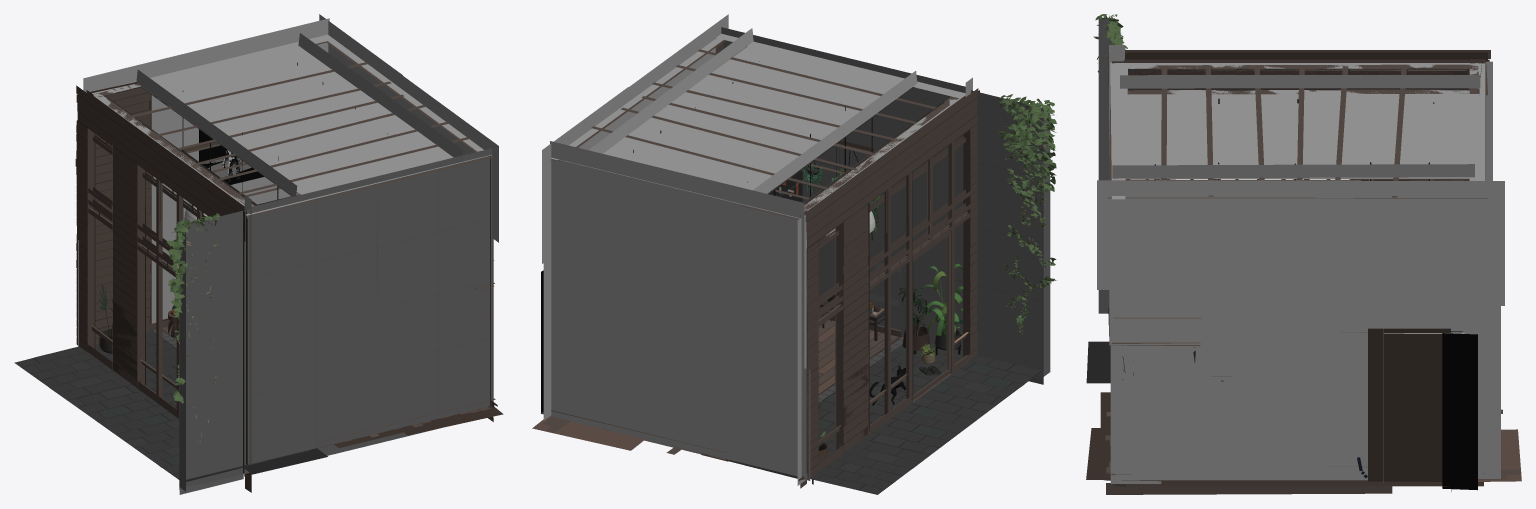
File: studio.glb
3 renders of one model, left to right at view 1: azimuth 30°, elevation 25°; view 2: azimuth 150°, elevation 25°; view 3: azimuth 270°, elevation 25°, orthographic. The views are drawn at different scales.
Visible parts, largest first — view 1: Untitled_6_Flat_geo_Flat_0, Untitled_6_TaperedFlat_geo_TaperedFlat_0; view 2: Untitled_6_Flat_geo_Flat_0, Untitled_6_TaperedFlat_geo_TaperedFlat_0; view 3: Untitled_6_Flat_geo_Flat_0, Untitled_6_Marker_geo_Marker_0, Untitled_6_TaperedFlat_geo_TaperedFlat_0.
Boxes of the visible parts, x1=… form: Untitled_6_Flat_geo_Flat_0: x1=14, y1=14, x2=503, y2=494; Untitled_6_TaperedFlat_geo_TaperedFlat_0: x1=102, y1=213, x2=221, y2=443; Untitled_6_Flat_geo_Flat_0: x1=532, y1=14, x2=1050, y2=494; Untitled_6_TaperedFlat_geo_TaperedFlat_0: x1=803, y1=94, x2=1056, y2=447; Untitled_6_Flat_geo_Flat_0: x1=1086, y1=18, x2=1521, y2=494; Untitled_6_Marker_geo_Marker_0: x1=1442, y1=333, x2=1477, y2=490; Untitled_6_TaperedFlat_geo_TaperedFlat_0: x1=1093, y1=14, x2=1461, y2=332.
Bounding box in the file's own units: 6.16 × 5.12 × 5.99.
5 materials, 2 textured.
